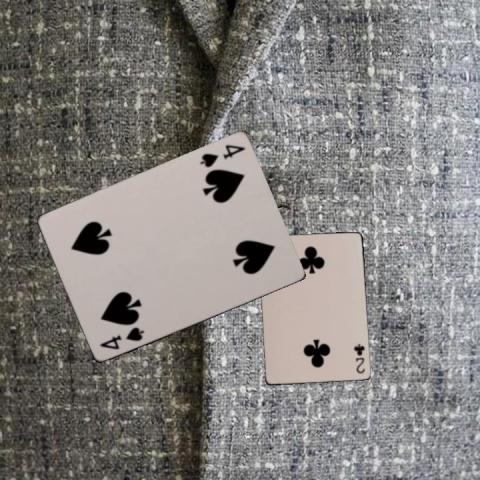2c: (351, 341, 366, 375)
4s: (96, 324, 145, 351), (197, 142, 246, 169)
